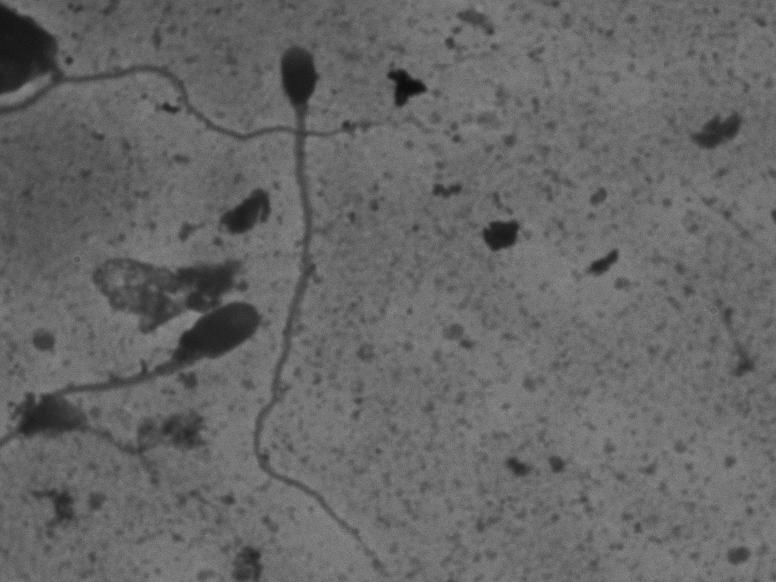Abnormal: (59, 294, 266, 398)
Normal: (240, 38, 388, 562)
